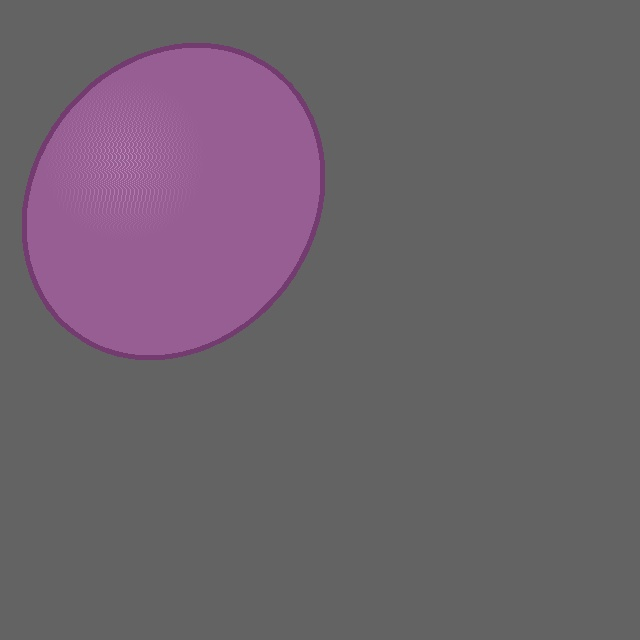lens: (24, 45, 322, 357)
